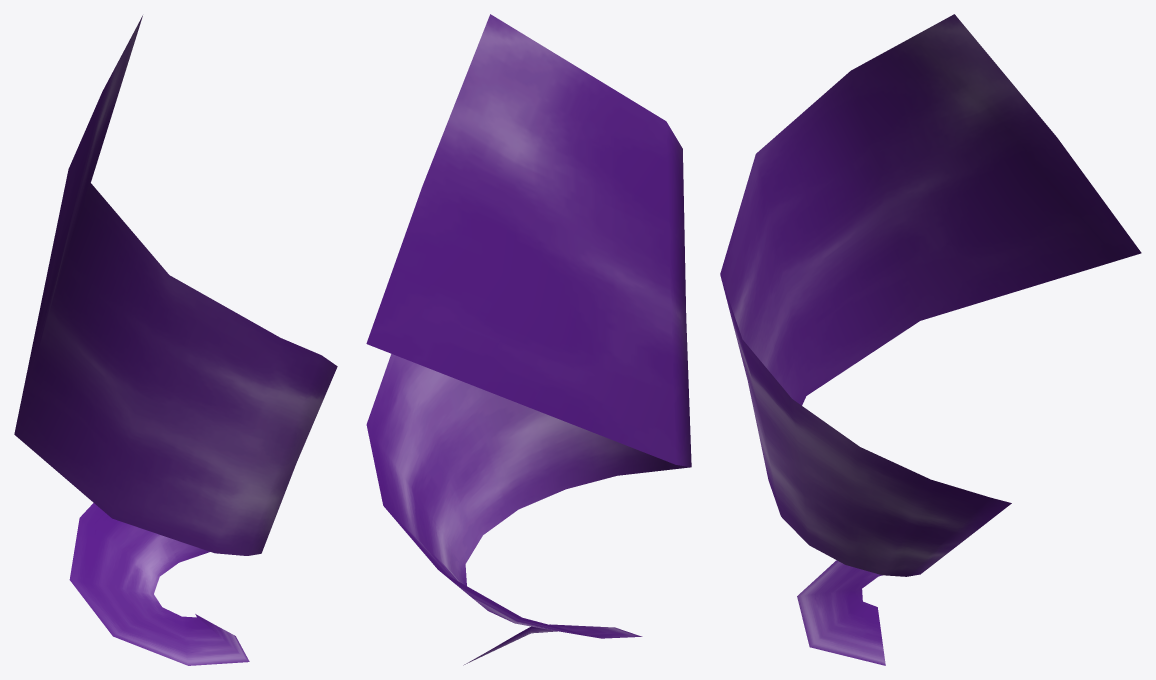
Rendered from ef-common-w3-skill0078-E01.FBX.
3 renders of one model, left to right at view 1: azimuth 30°, elevation 25°; view 2: azimuth 150°, elevation 25°; view 3: azimuth 270°, elevation 25°, orthographic. The views are drawn at different scales.
Visible parts, largest first — view 1: ef-common-w3-skill0078-E01; view 2: ef-common-w3-skill0078-E01; view 3: ef-common-w3-skill0078-E01.
Part boxes in pixels (left/top/right/bottom): ef-common-w3-skill0078-E01: left=14, top=15, right=337, bottom=665; ef-common-w3-skill0078-E01: left=366, top=14, right=691, bottom=665; ef-common-w3-skill0078-E01: left=720, top=14, right=1141, bottom=665.
Size of the model in its own units: 85.46 by 180 by 110.
